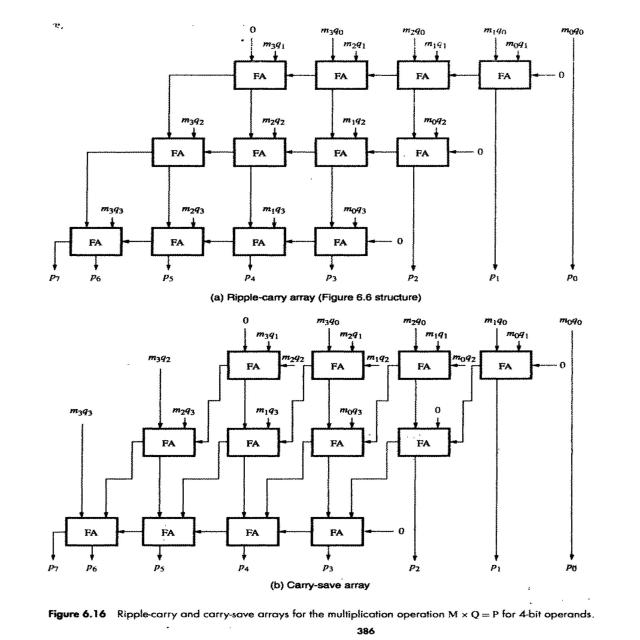diagram: (36, 16, 640, 622)
